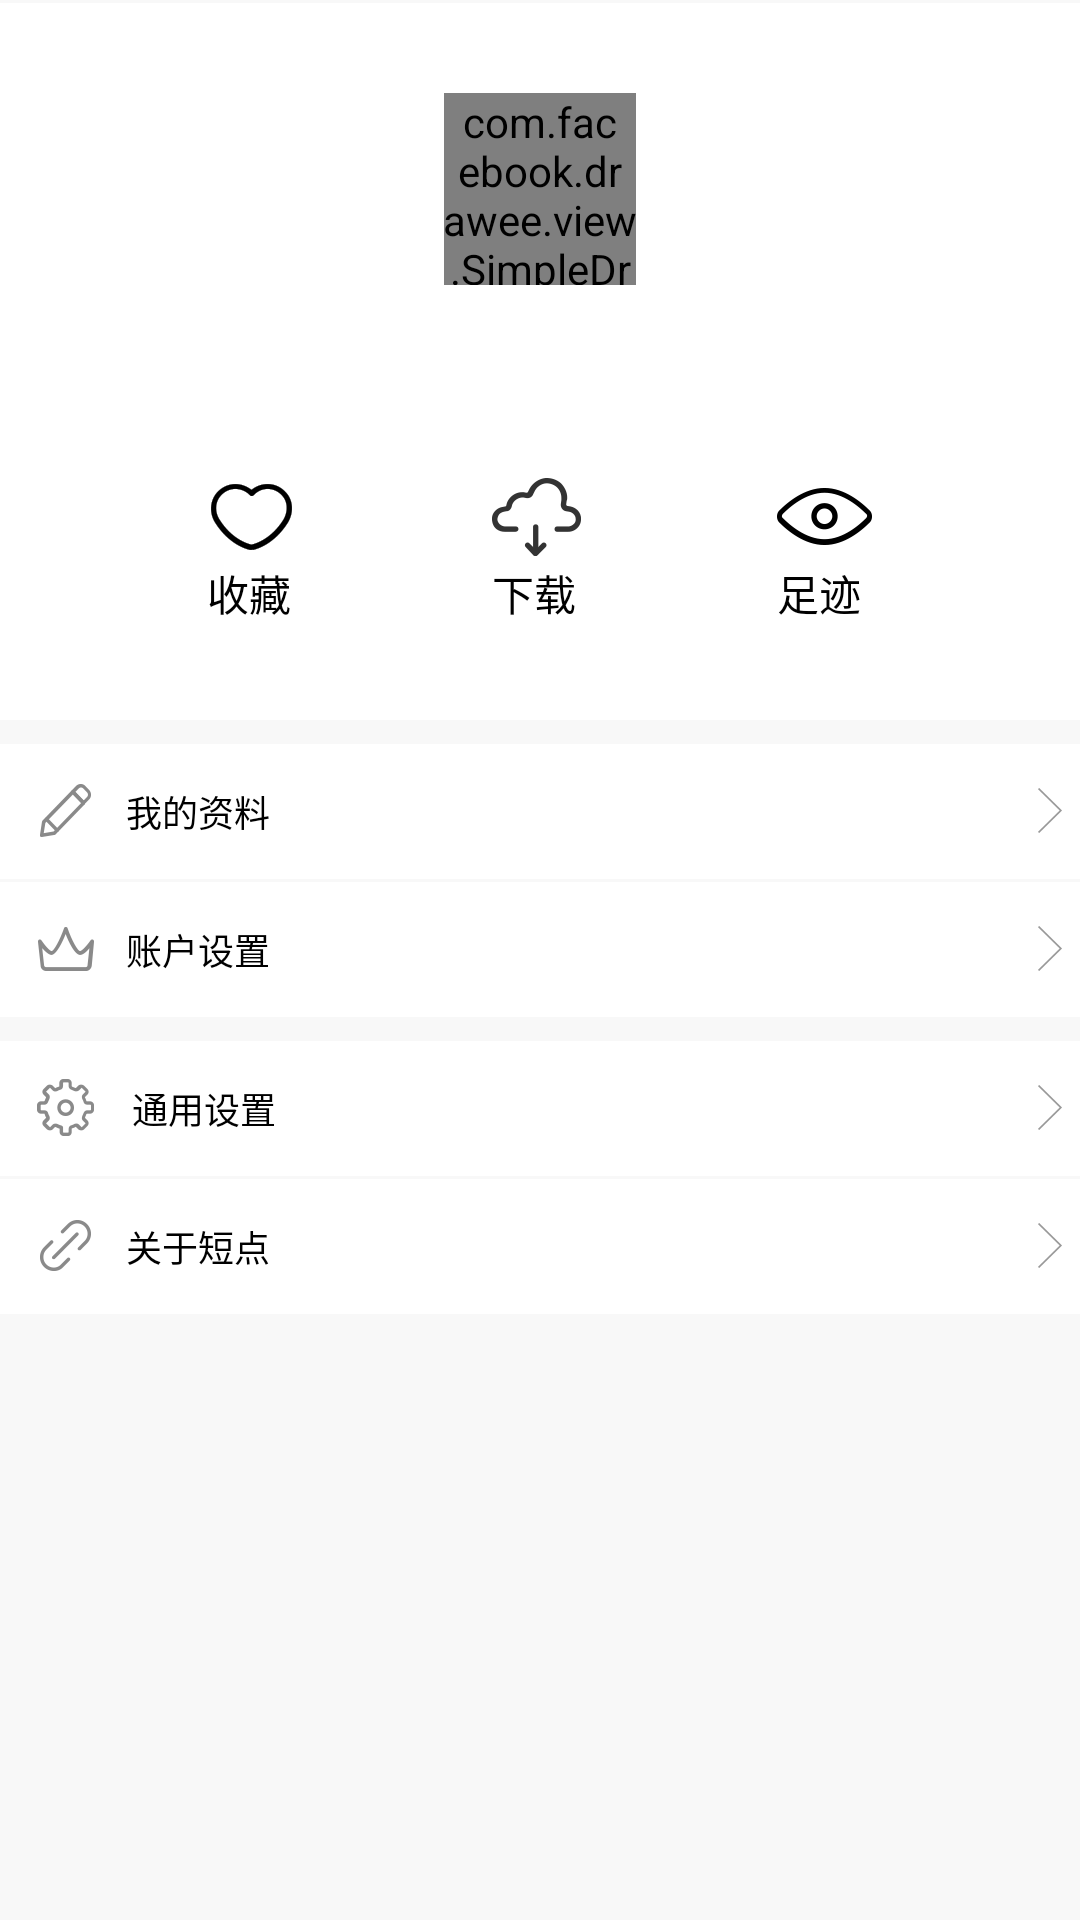

Icon click points for this 1080*1920 phone screenshot, format [x,y]:
setting: [65,1107]
